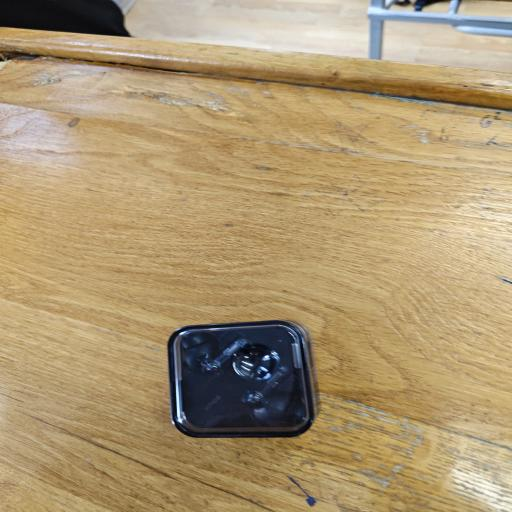Headphones: (164, 316, 322, 440)
